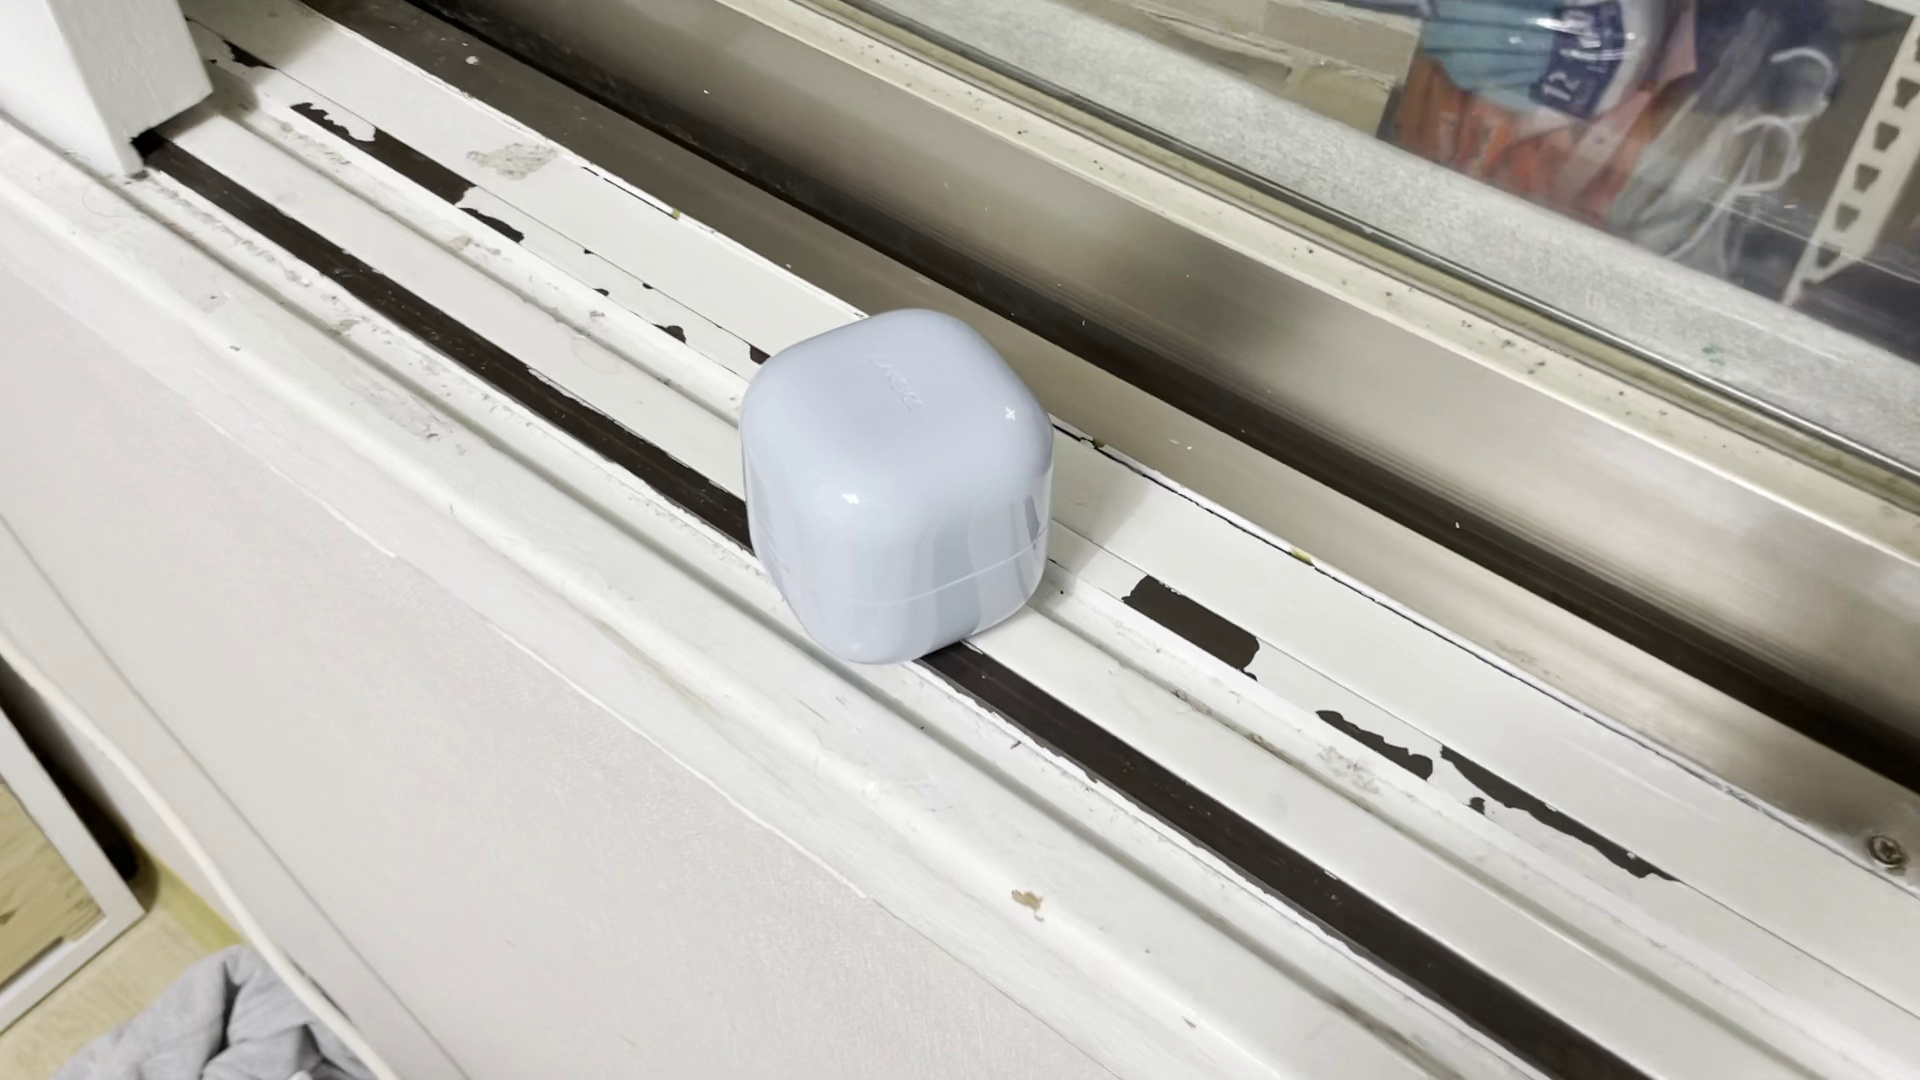cream: (744, 305, 1048, 662)
